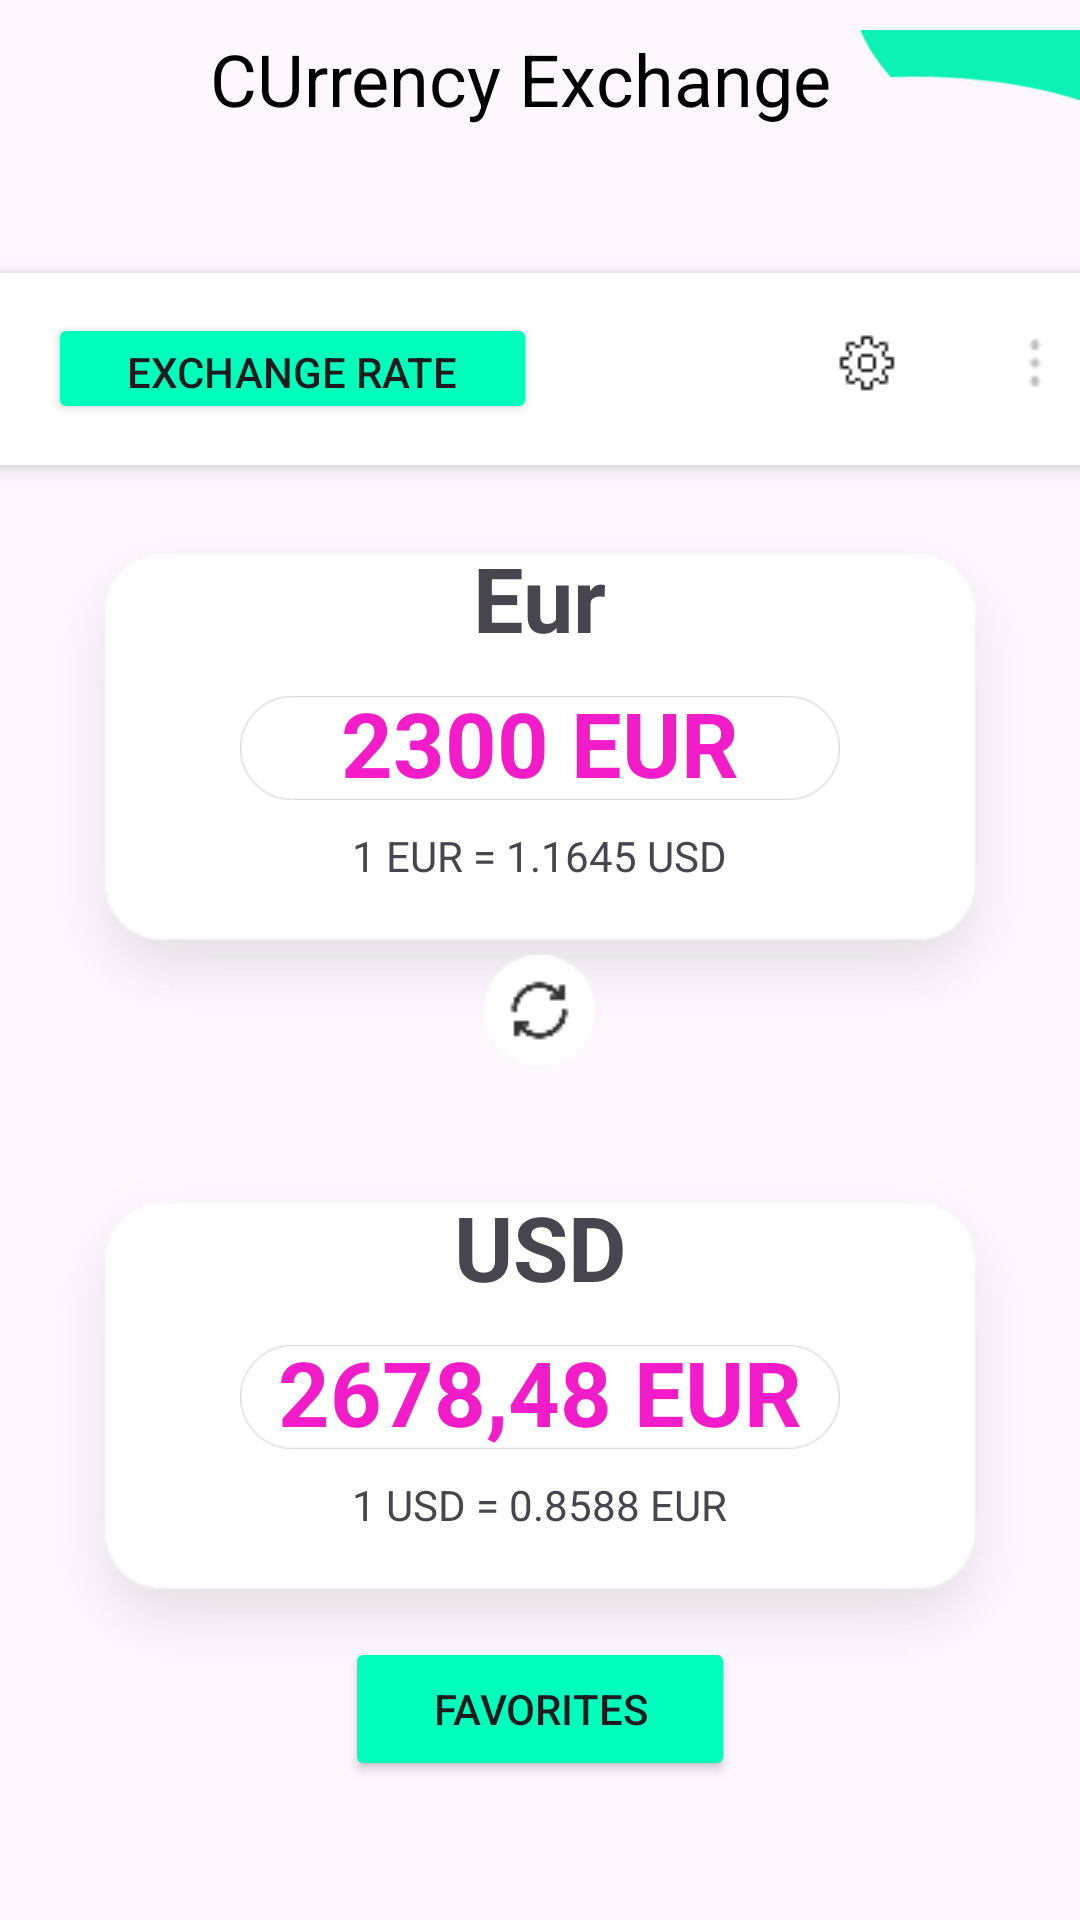

Locate icon controls on the screen. Image size 1080×1920, boxes as (x1, y1, x2, y2).
dots: (1030, 339, 1040, 387)
set: (839, 335, 895, 391)
